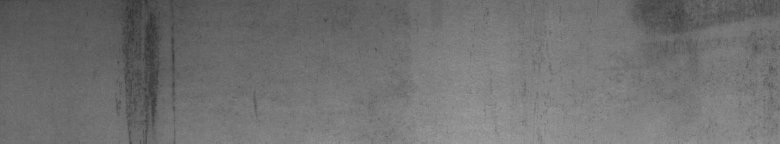ka: (116, 6, 176, 136)
